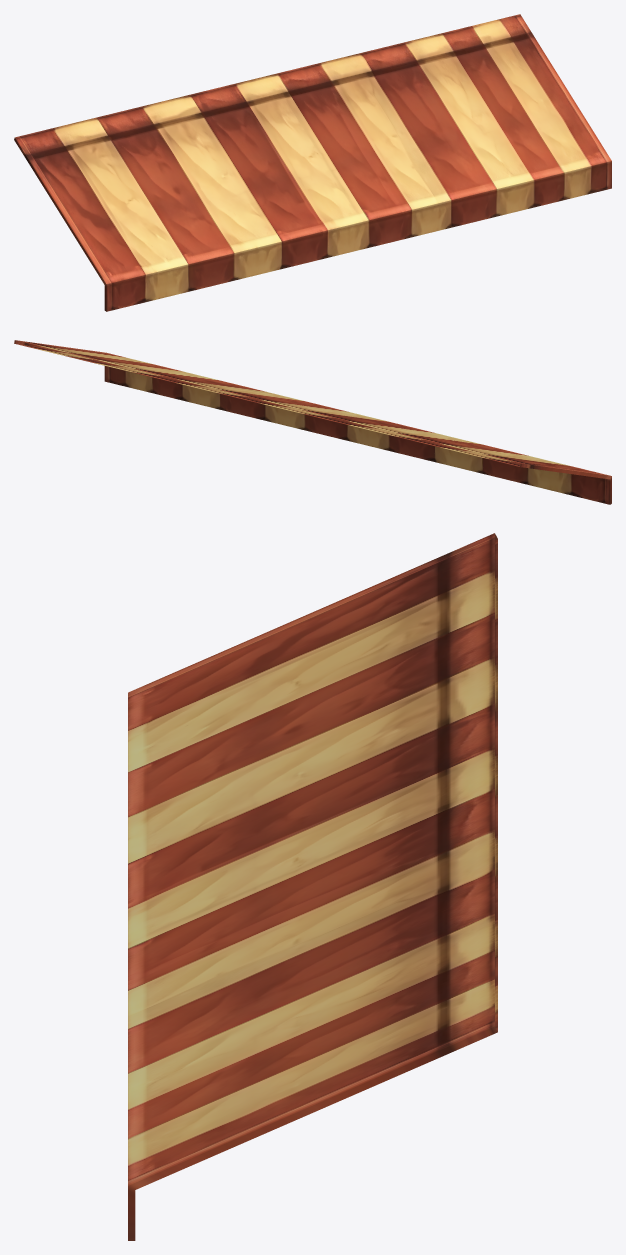
The model's file is SPN_Awning4.fbx.
The picture shows the model from 3 angles, top to bottom: view 1: azimuth 30°, elevation 25°; view 2: azimuth 150°, elevation 25°; view 3: azimuth 270°, elevation 25°; orthographic projection. The views are drawn at different scales.
Visible parts, largest first — view 1: SPN_Awning4; view 2: SPN_Awning4; view 3: SPN_Awning4.
Part boxes in pixels (x1,y1,x2,y2): SPN_Awning4: [14, 14, 611, 311]; SPN_Awning4: [14, 340, 611, 504]; SPN_Awning4: [128, 533, 497, 1240].
Bounding box in the file's own units: 4 × 1.27 × 0.8113.
1 material, 1 textured.
